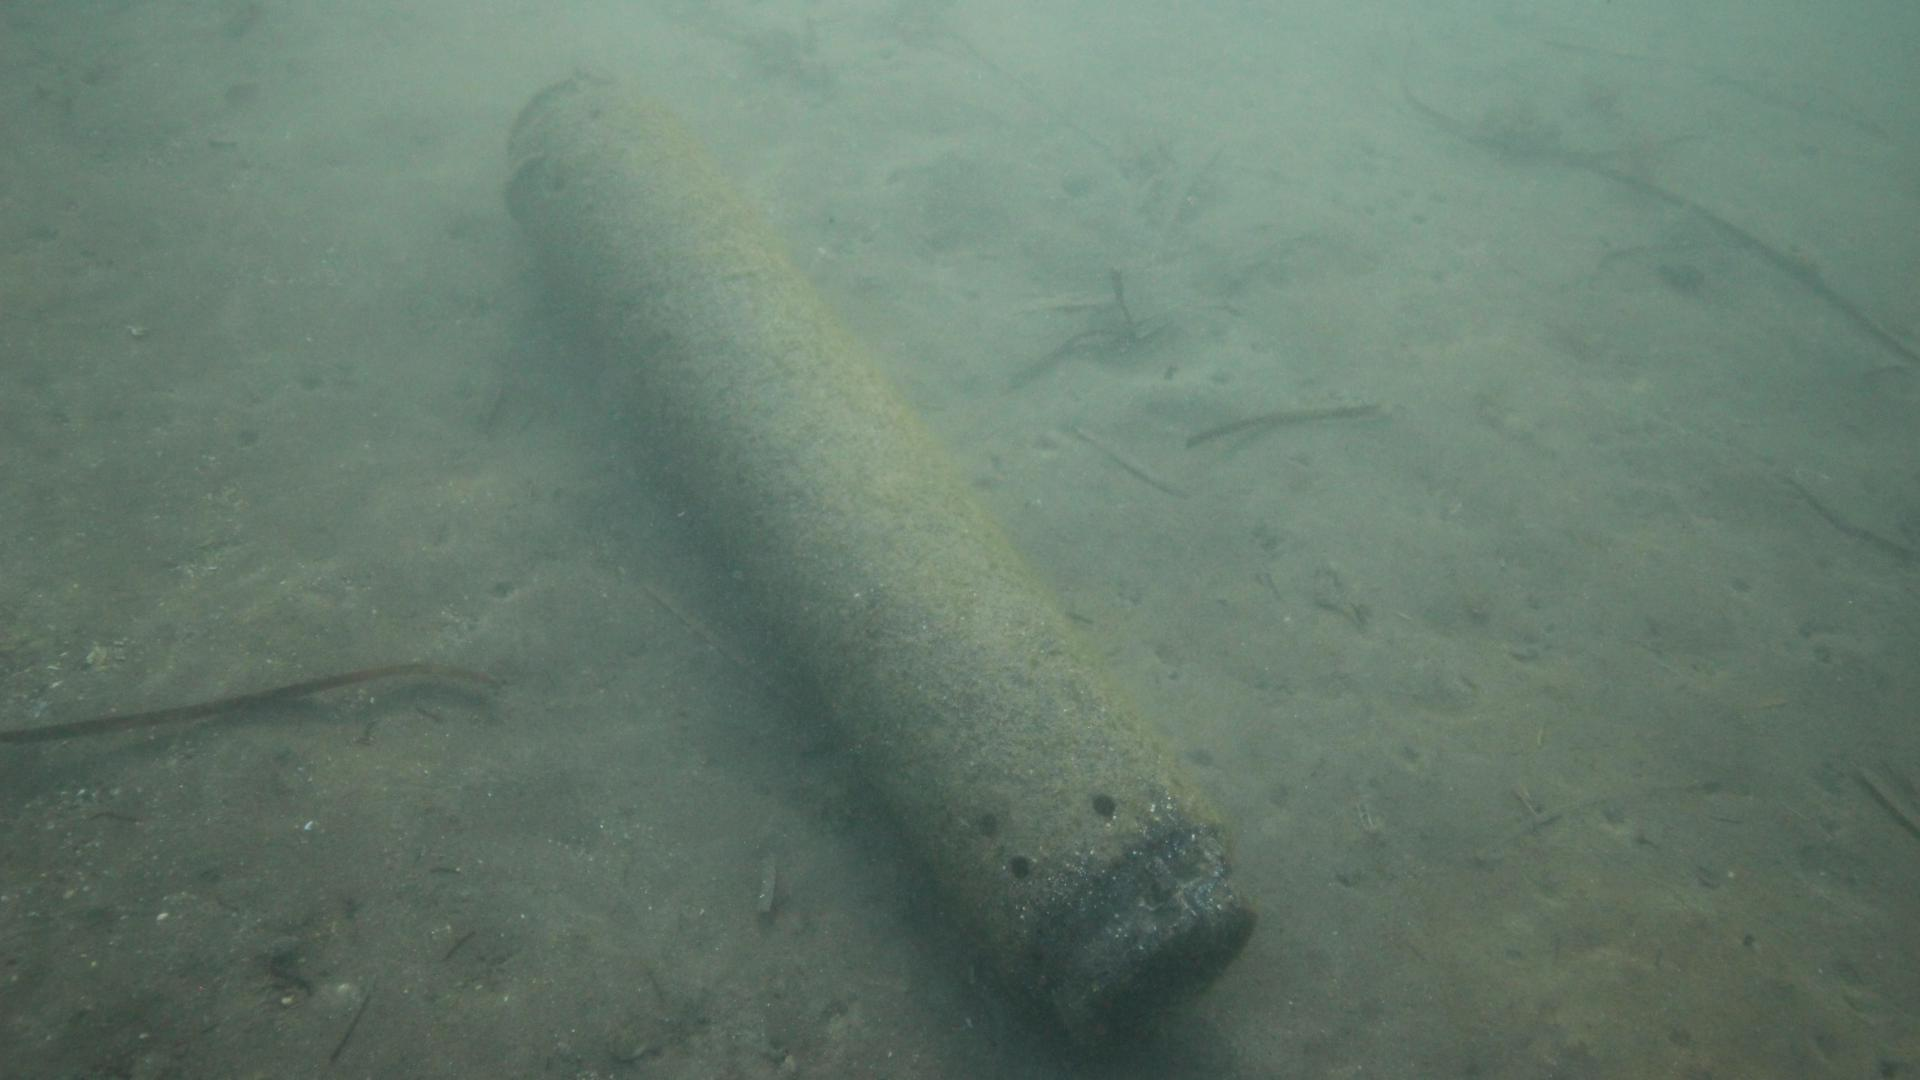eel fish trap: (497, 73, 1259, 1042)
